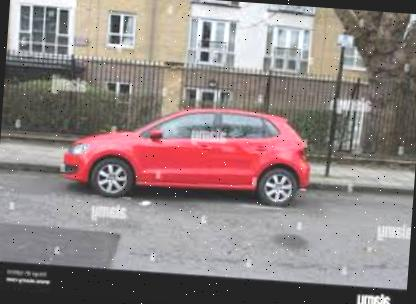car: (52, 92, 318, 216)
